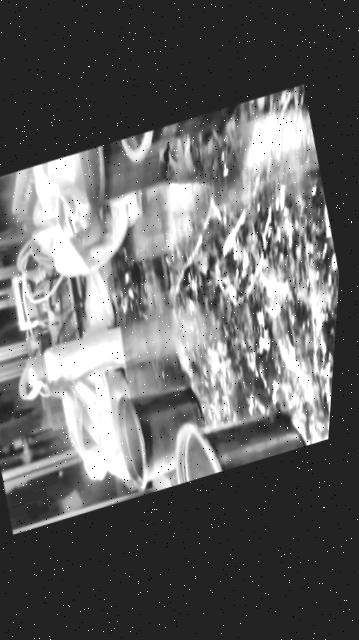pot: (104, 374, 216, 493), (165, 394, 309, 486), (119, 106, 232, 160), (79, 140, 165, 204)
